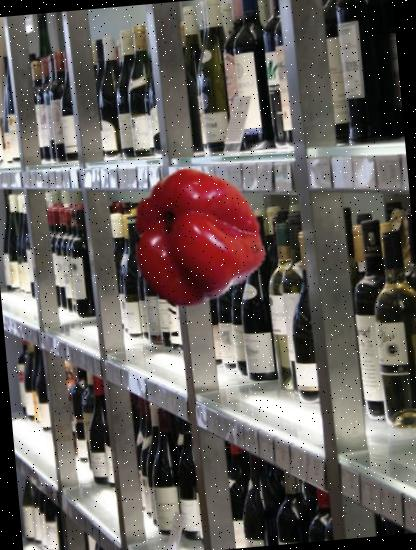Pepper: (120, 164, 273, 317)
